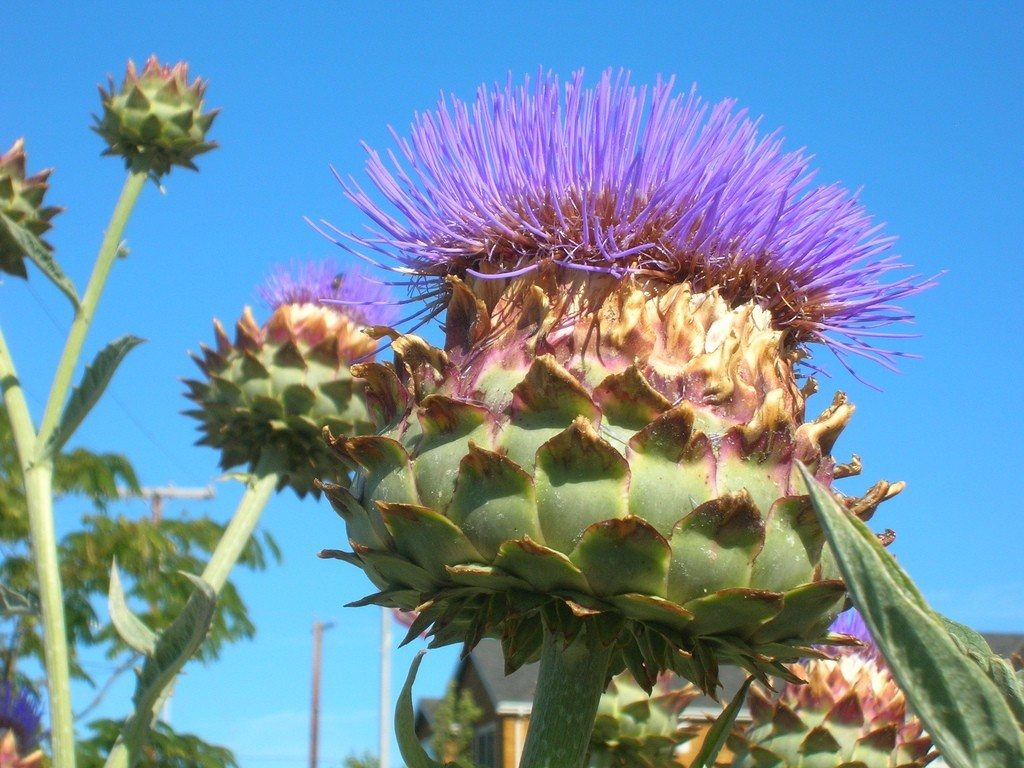thistle: (320, 67, 899, 704)
